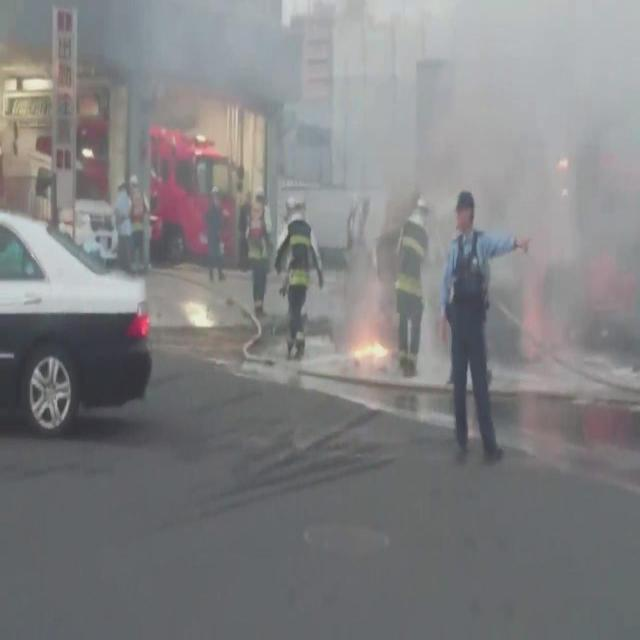smoke: (409, 9, 630, 193), (522, 200, 632, 362)
